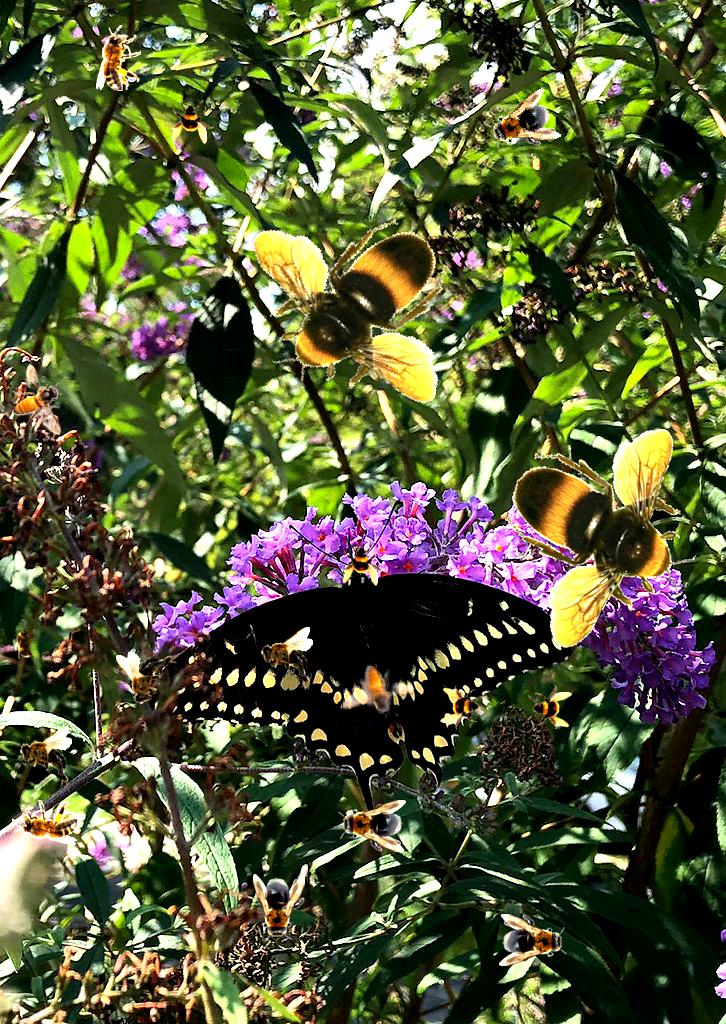Bee: (214, 181, 482, 428), (505, 429, 696, 649), (480, 87, 564, 163), (340, 660, 418, 721), (12, 364, 62, 435), (499, 914, 567, 966), (338, 800, 406, 852), (253, 874, 305, 942), (260, 627, 313, 689), (116, 652, 178, 705), (19, 726, 72, 788), (12, 800, 78, 845), (96, 25, 141, 91), (170, 100, 214, 144), (528, 685, 572, 729), (341, 542, 385, 586), (440, 686, 484, 730), (14, 623, 36, 663)
